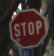stopsign: (9, 9, 47, 48)
